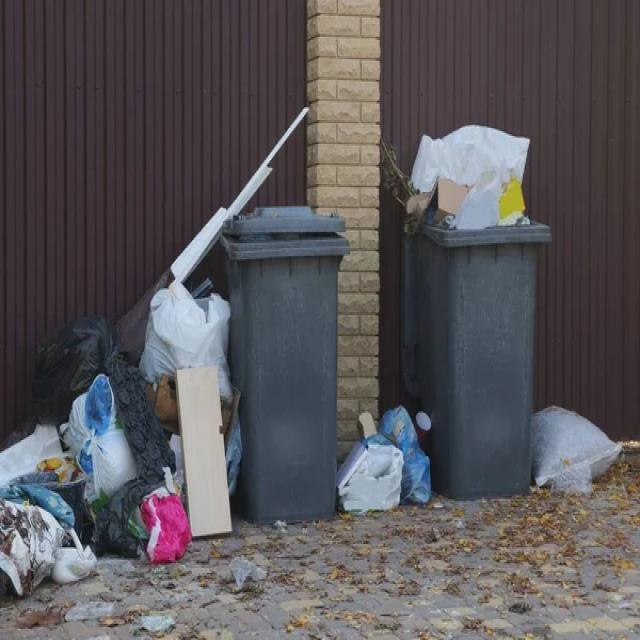garbage: (1, 269, 233, 608)
